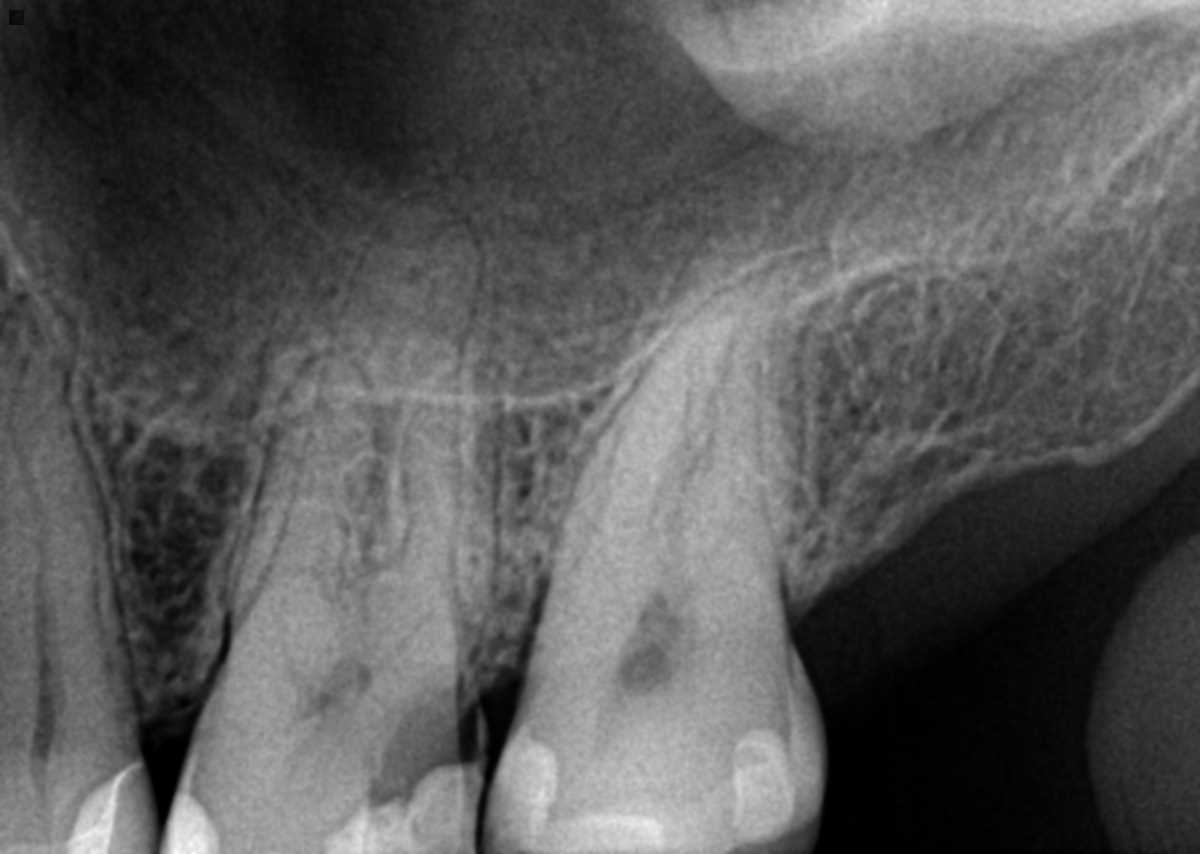Distal Canal: (698, 454, 752, 582), (396, 603, 436, 650)
Distal Root: (661, 252, 832, 609), (365, 359, 503, 673)
Main Canal: (4, 301, 62, 730)
Main Root: (0, 278, 140, 729)
Mesial Root: (553, 288, 757, 621), (236, 350, 375, 642)
Palatal Canal: (553, 288, 757, 621)
Palatal Root: (195, 193, 482, 750), (515, 205, 812, 703)
decay: (372, 673, 483, 811)
